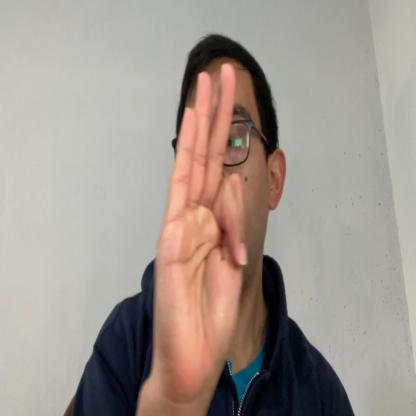F: (152, 62, 249, 387)
